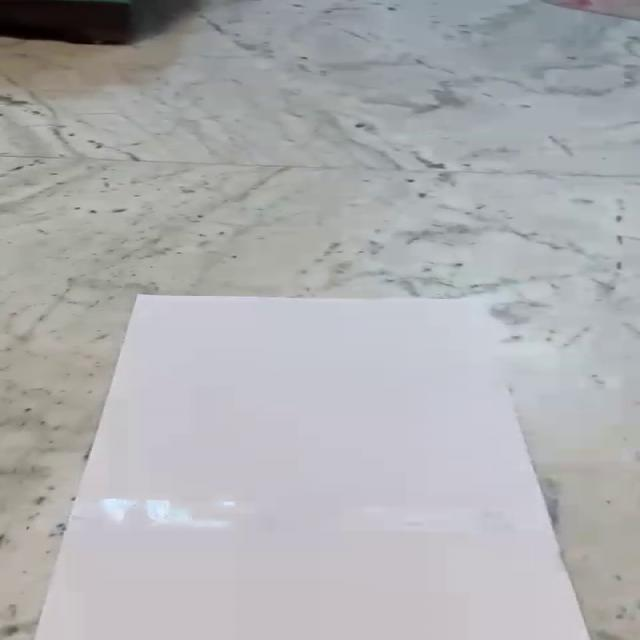road: (32, 295, 592, 640)
